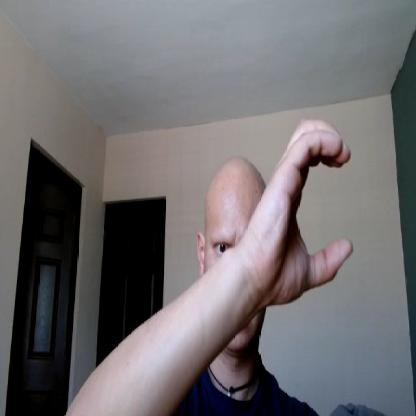C: (256, 115, 354, 307)
